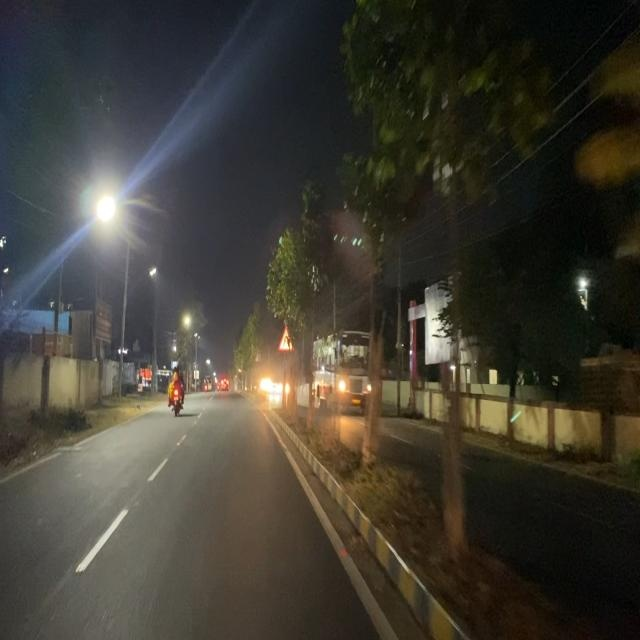bien_nguy_hiem: (277, 324, 295, 352)
